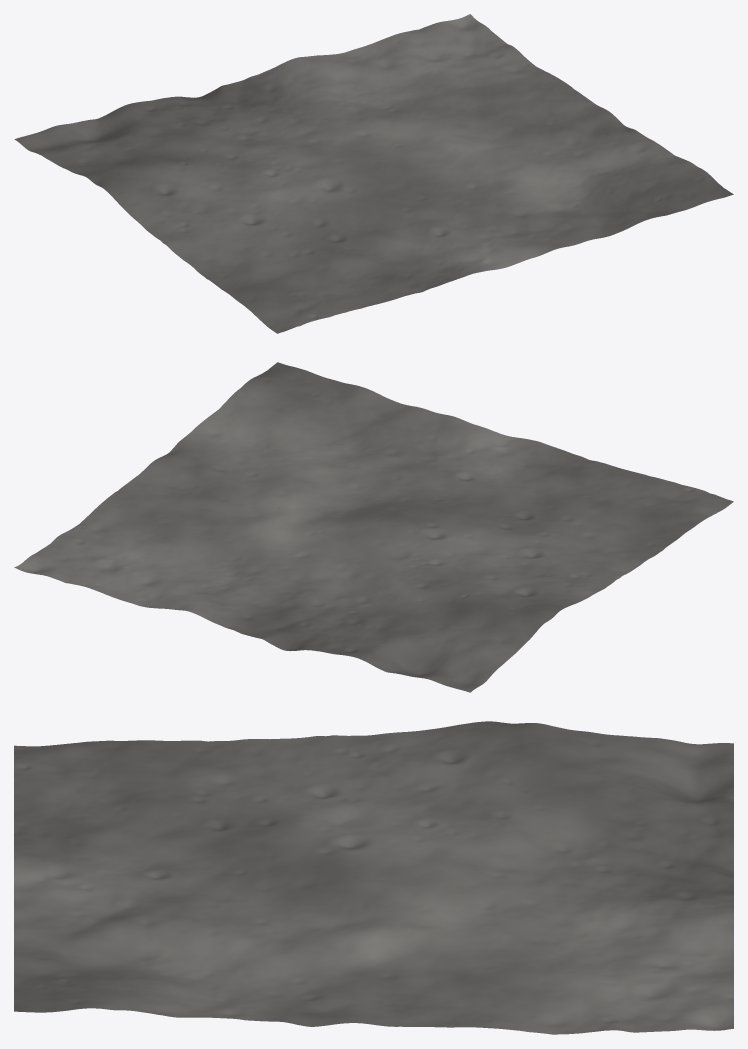
Rendered from mons-mouton.glb.
3 views of the same model, one above another, from view 1: azimuth 30°, elevation 25°; view 2: azimuth 150°, elevation 25°; view 3: azimuth 270°, elevation 25° (orthographic). The views are drawn at different scales.
Visible parts, largest first — view 1: Ground; view 2: Ground; view 3: Ground.
Part boxes in pixels (x1,y1,x2,y2): Ground: [14, 14, 733, 333]; Ground: [14, 362, 733, 692]; Ground: [14, 721, 733, 1034].
Size of the model in its own units: 20 by 1.45 by 20.
Materials: 1 (1 with a texture image).
